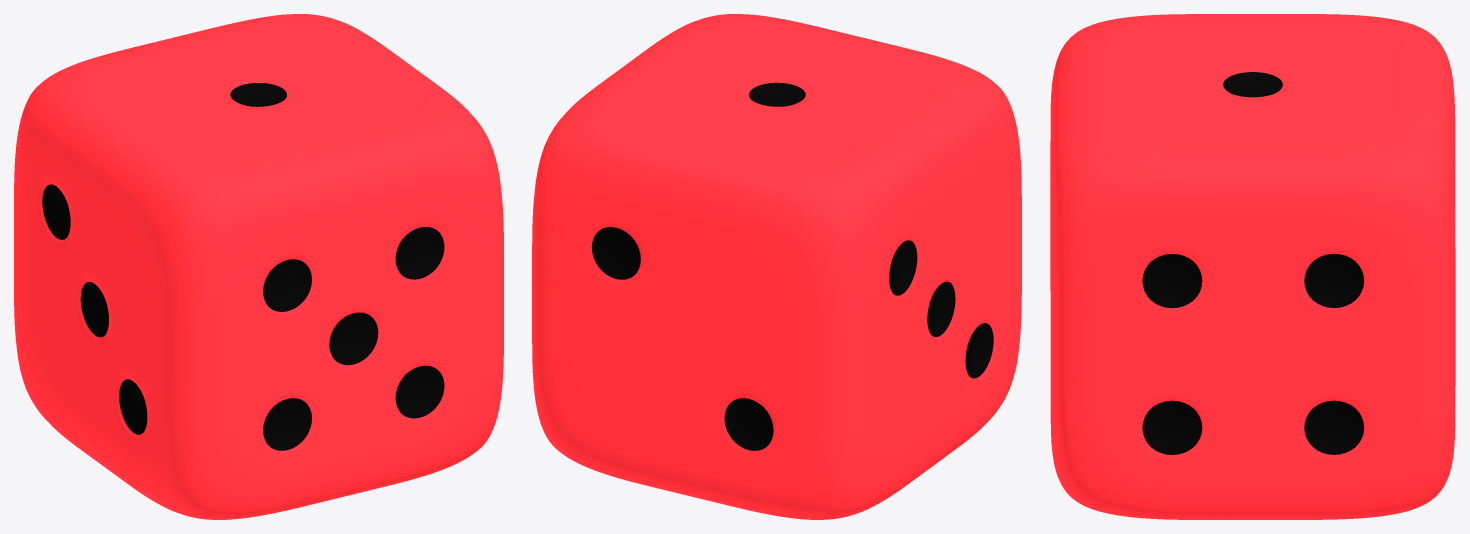
File: dice.glb
3 renders of one model, left to right at view 1: azimuth 30°, elevation 25°; view 2: azimuth 150°, elevation 25°; view 3: azimuth 270°, elevation 25°, orthographic. The views are drawn at different scales.
Parts seen in each view (by area): view 1: Dice_Cube; view 2: Dice_Cube; view 3: Dice_Cube.
Boxes of the visible parts, x1,y1,x2,y2 form: Dice_Cube: (14, 14, 503, 519); Dice_Cube: (532, 14, 1021, 519); Dice_Cube: (1050, 14, 1455, 519).
Size of the model in its own units: 2 by 2 by 2.
